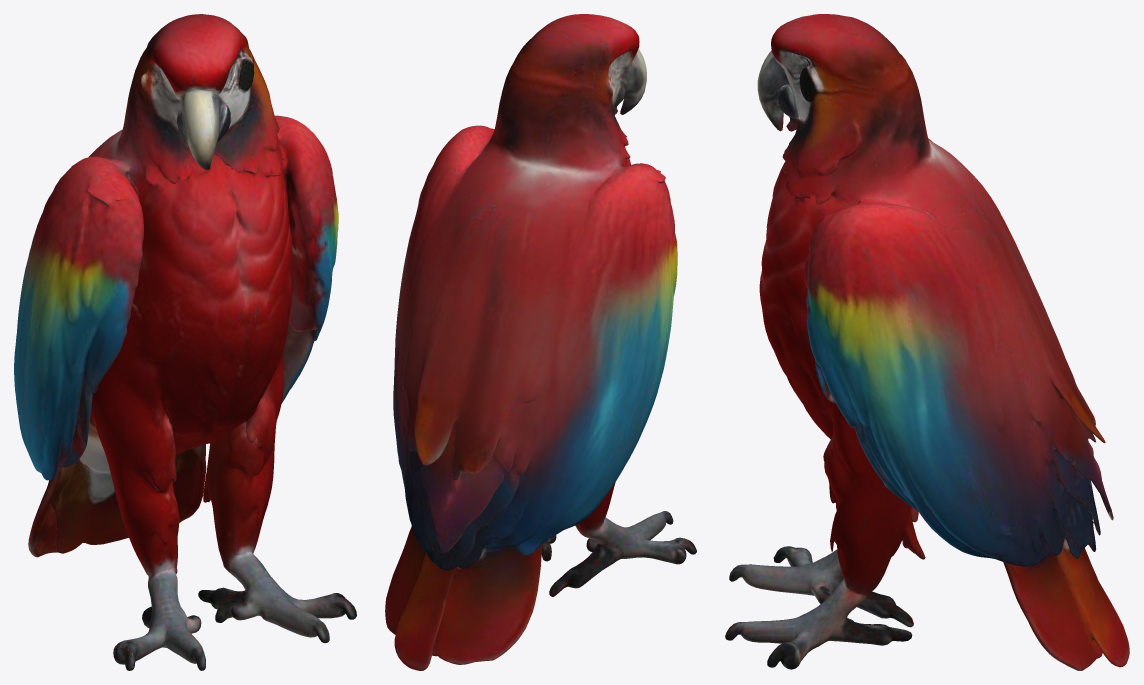
File: token_parrot.glb
3 renders of one model, left to right at view 1: azimuth 30°, elevation 25°; view 2: azimuth 150°, elevation 25°; view 3: azimuth 270°, elevation 25°, orthographic. The views are drawn at different scales.
Bounding box in the file's own units: 0.3741 × 0.7982 × 0.4698.
Materials: 1 (1 with a texture image).
